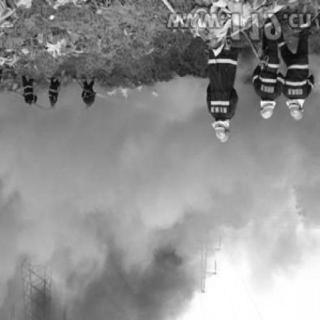Fire: (103, 78, 154, 104)
Smoke: (3, 108, 315, 310)
other: (204, 112, 236, 148), (284, 92, 311, 124), (254, 98, 276, 124)
